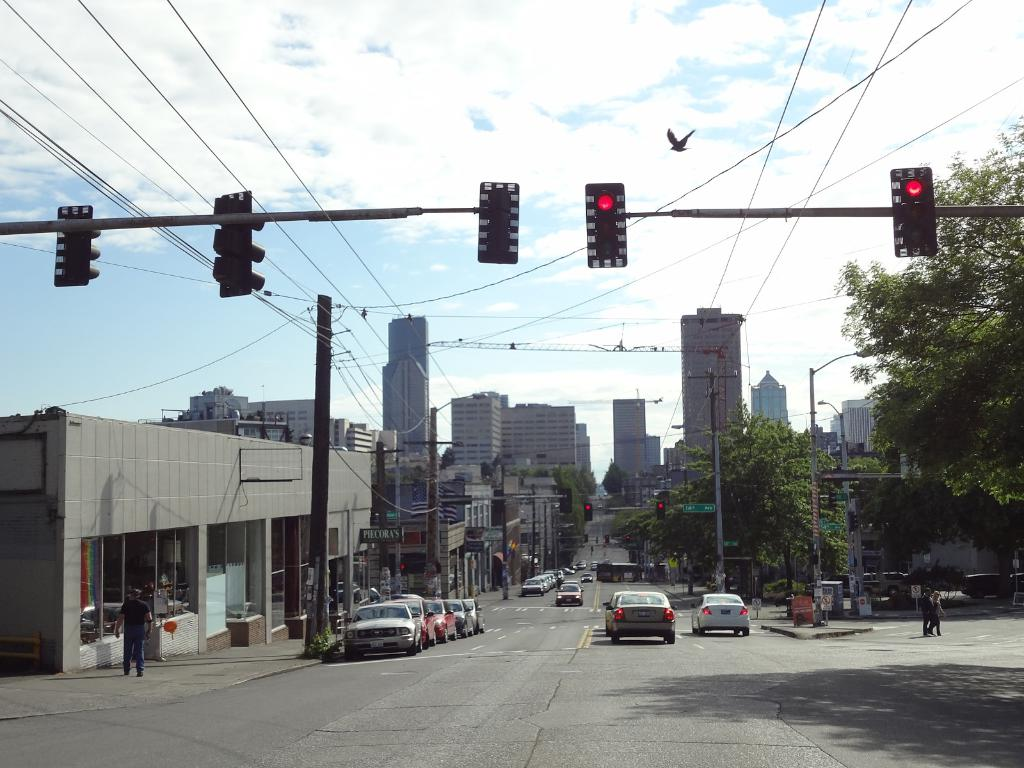red_light: (586, 184, 625, 267), (897, 169, 932, 254)
